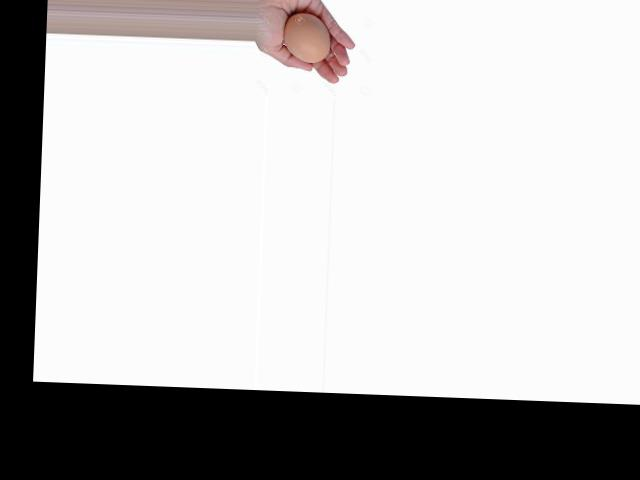egg: (283, 12, 332, 63)
